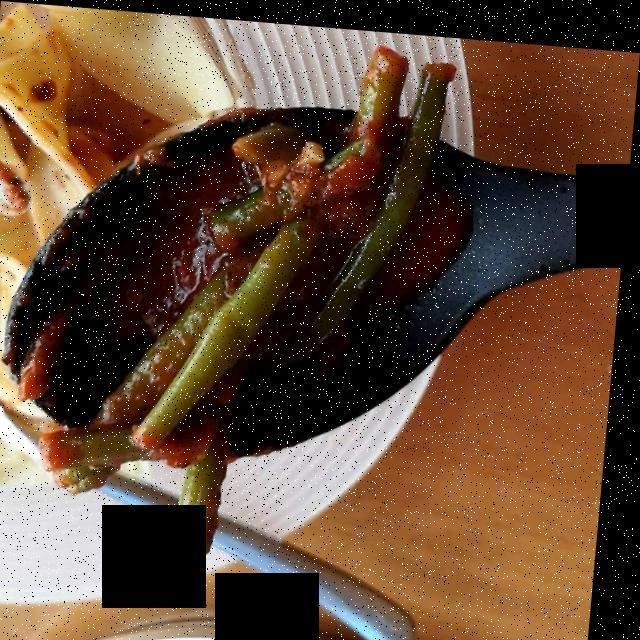beans: (46, 27, 458, 604)
tomato-sauce: (33, 138, 374, 451)
